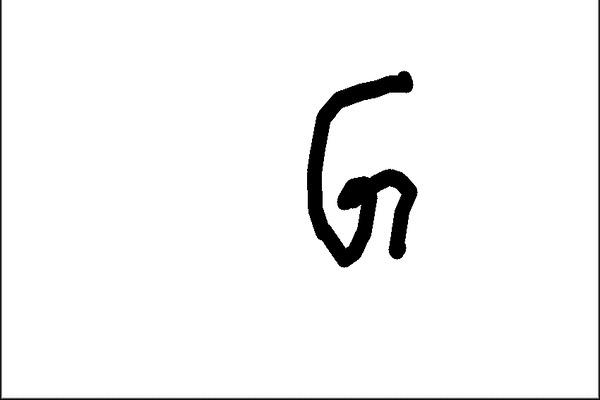G: (297, 64, 423, 272)
